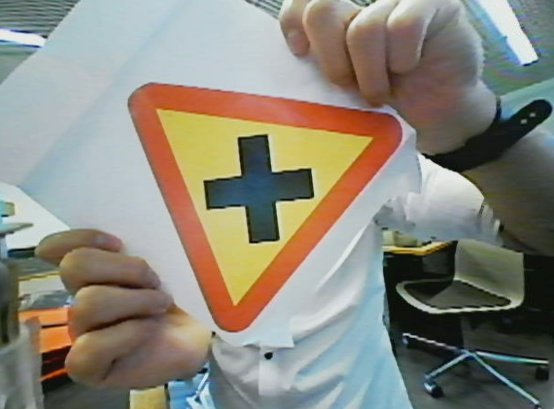junction: (120, 70, 406, 339)
